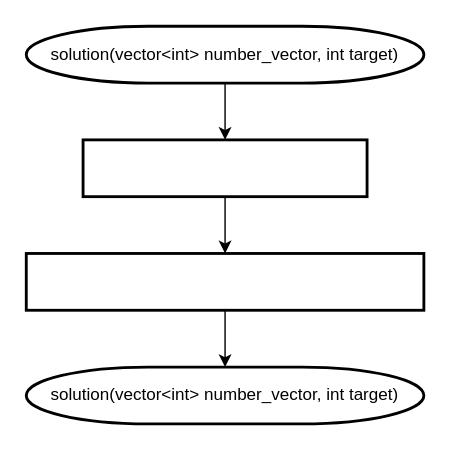
The diagram is 449 pixels wide and 449 high, and some of its shapes have lost their labels. Here are the shapes that lost their labels. From the top down, the centre of each, then its label:
At (224,167): "더하기 개수와 빼기 개수 계산".
At (224,281): "같은것이 있는 순열 계산 사용 number_vector_size/plus_count/minus_count".
